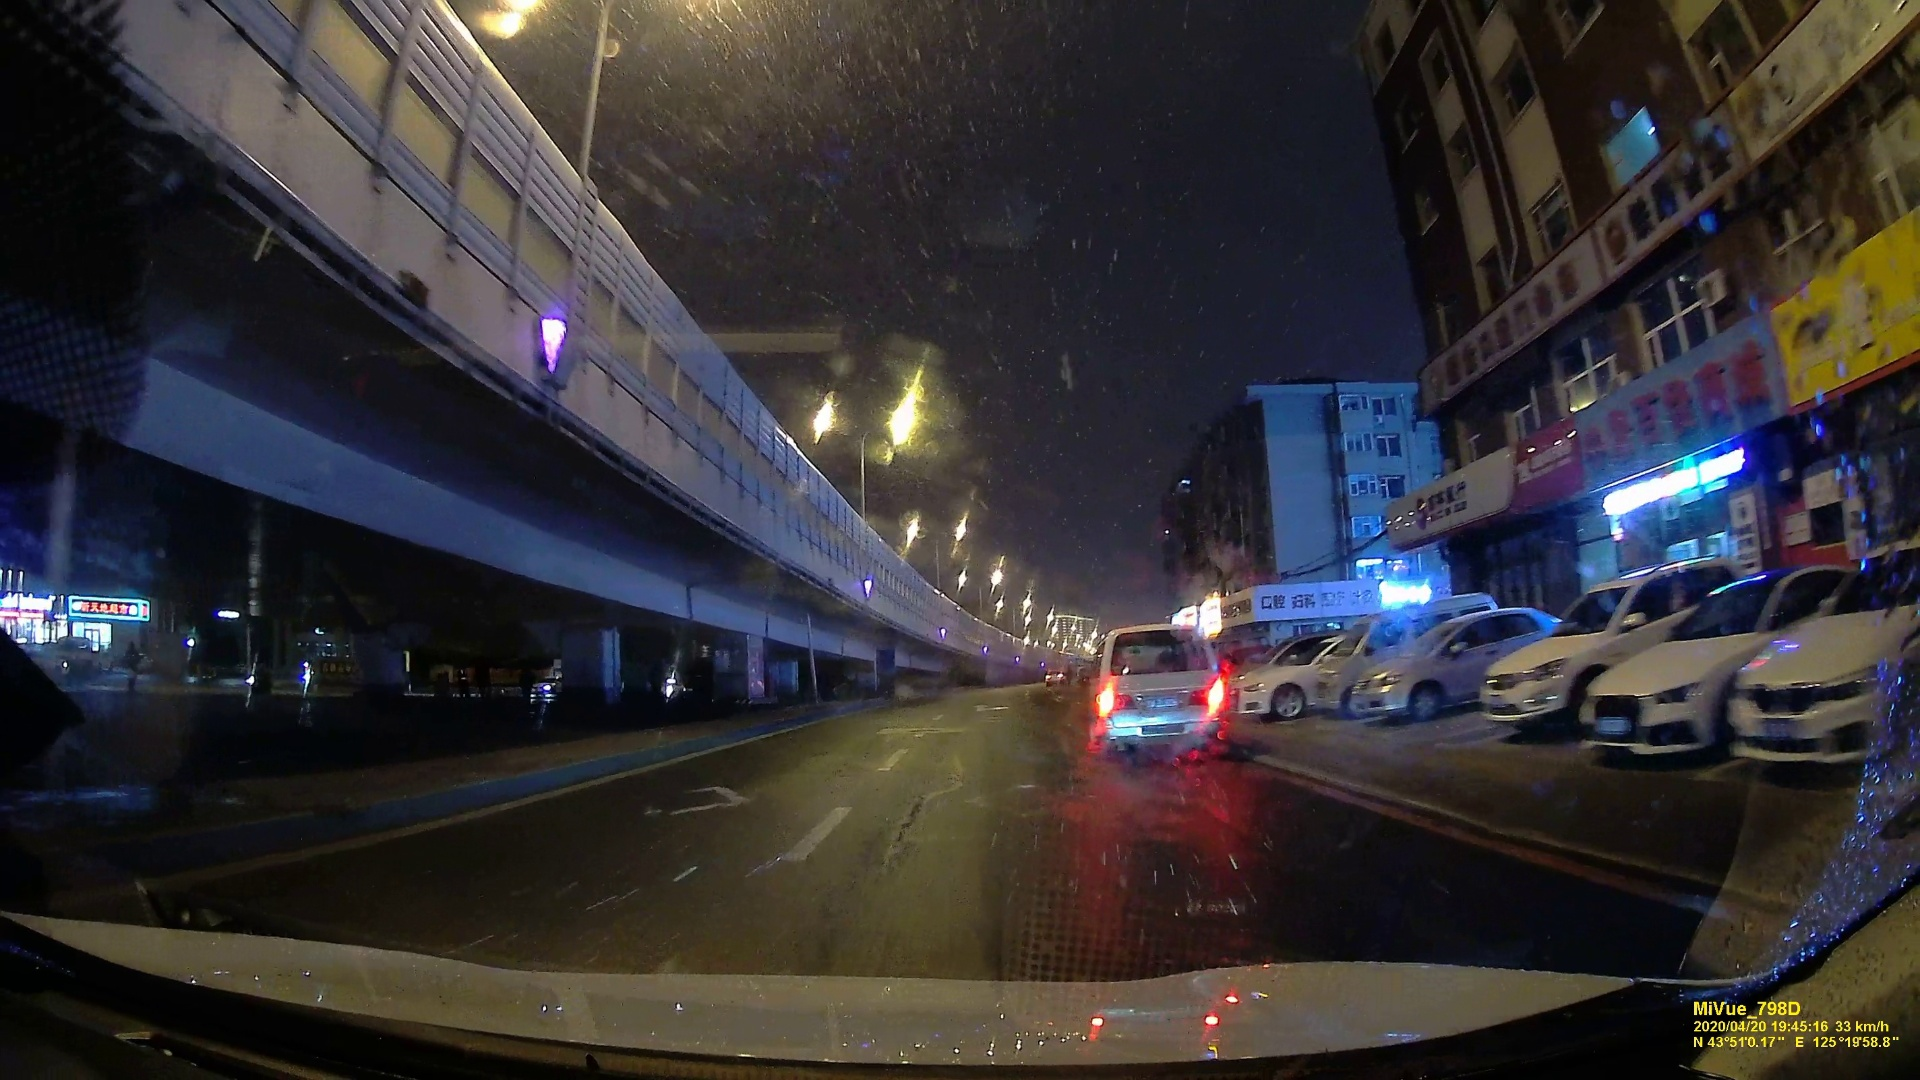minibus: (1093, 626, 1229, 760)
vehicle: (1482, 593, 1609, 728), (1352, 618, 1480, 721)
